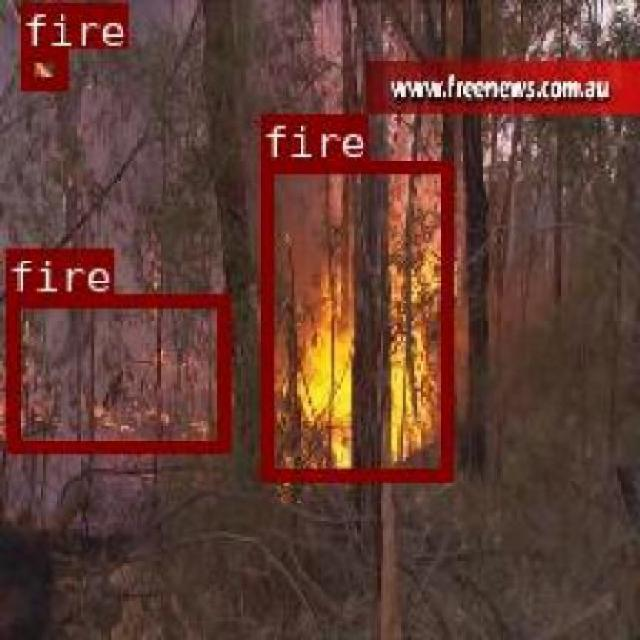Fire: (260, 158, 449, 480), (3, 292, 226, 450), (19, 46, 64, 88)
